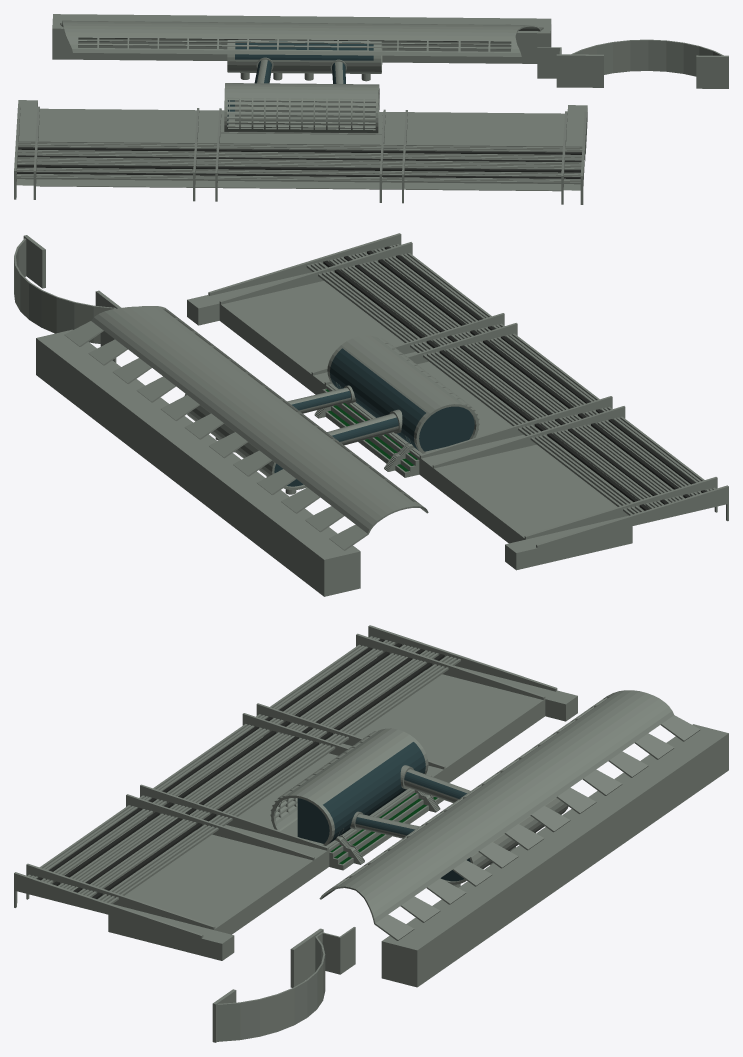
File: Terminal3.obj
3 renders of one model, top to bottom at view 1: azimuth 30°, elevation 25°; view 2: azimuth 150°, elevation 25°; view 3: azimuth 270°, elevation 25°, orthographic. The views are drawn at different scales.
Size of the model in its own units: 473 by 36.59 by 373.
